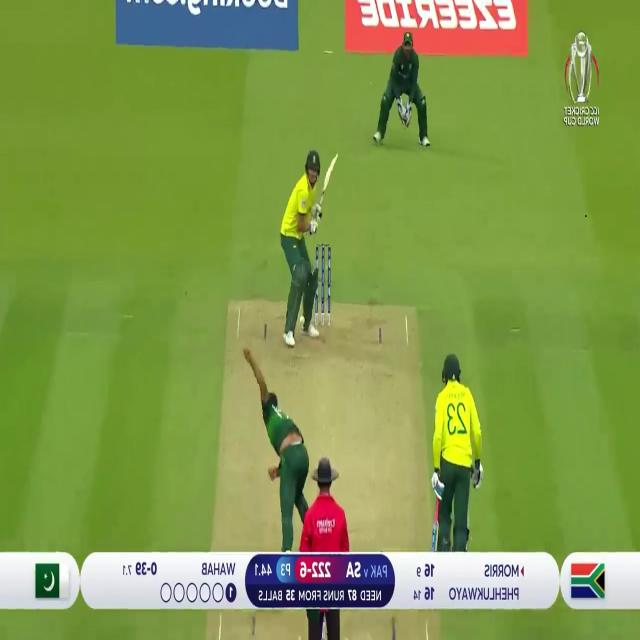ball: (296, 309, 308, 327)
